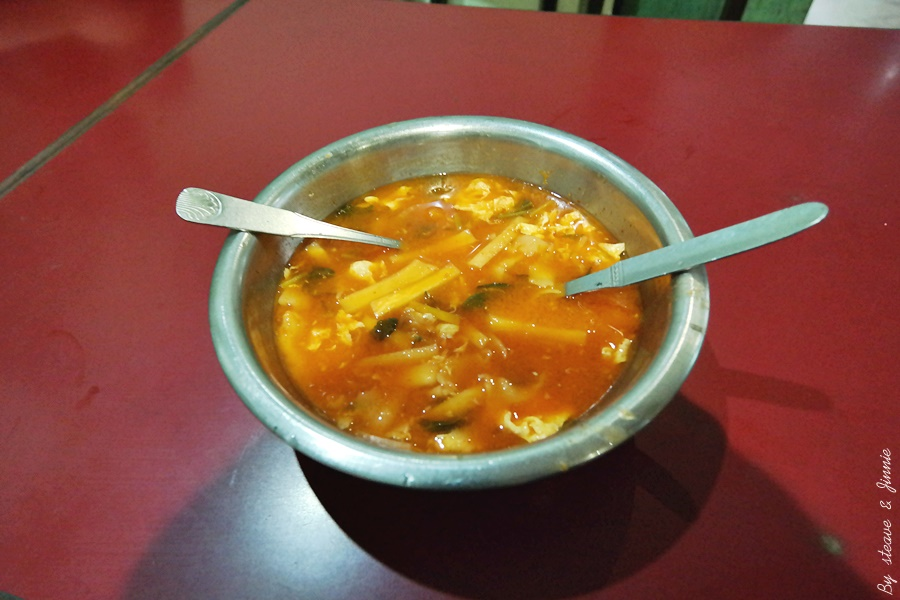boiled potatoes: (246, 158, 644, 452)
